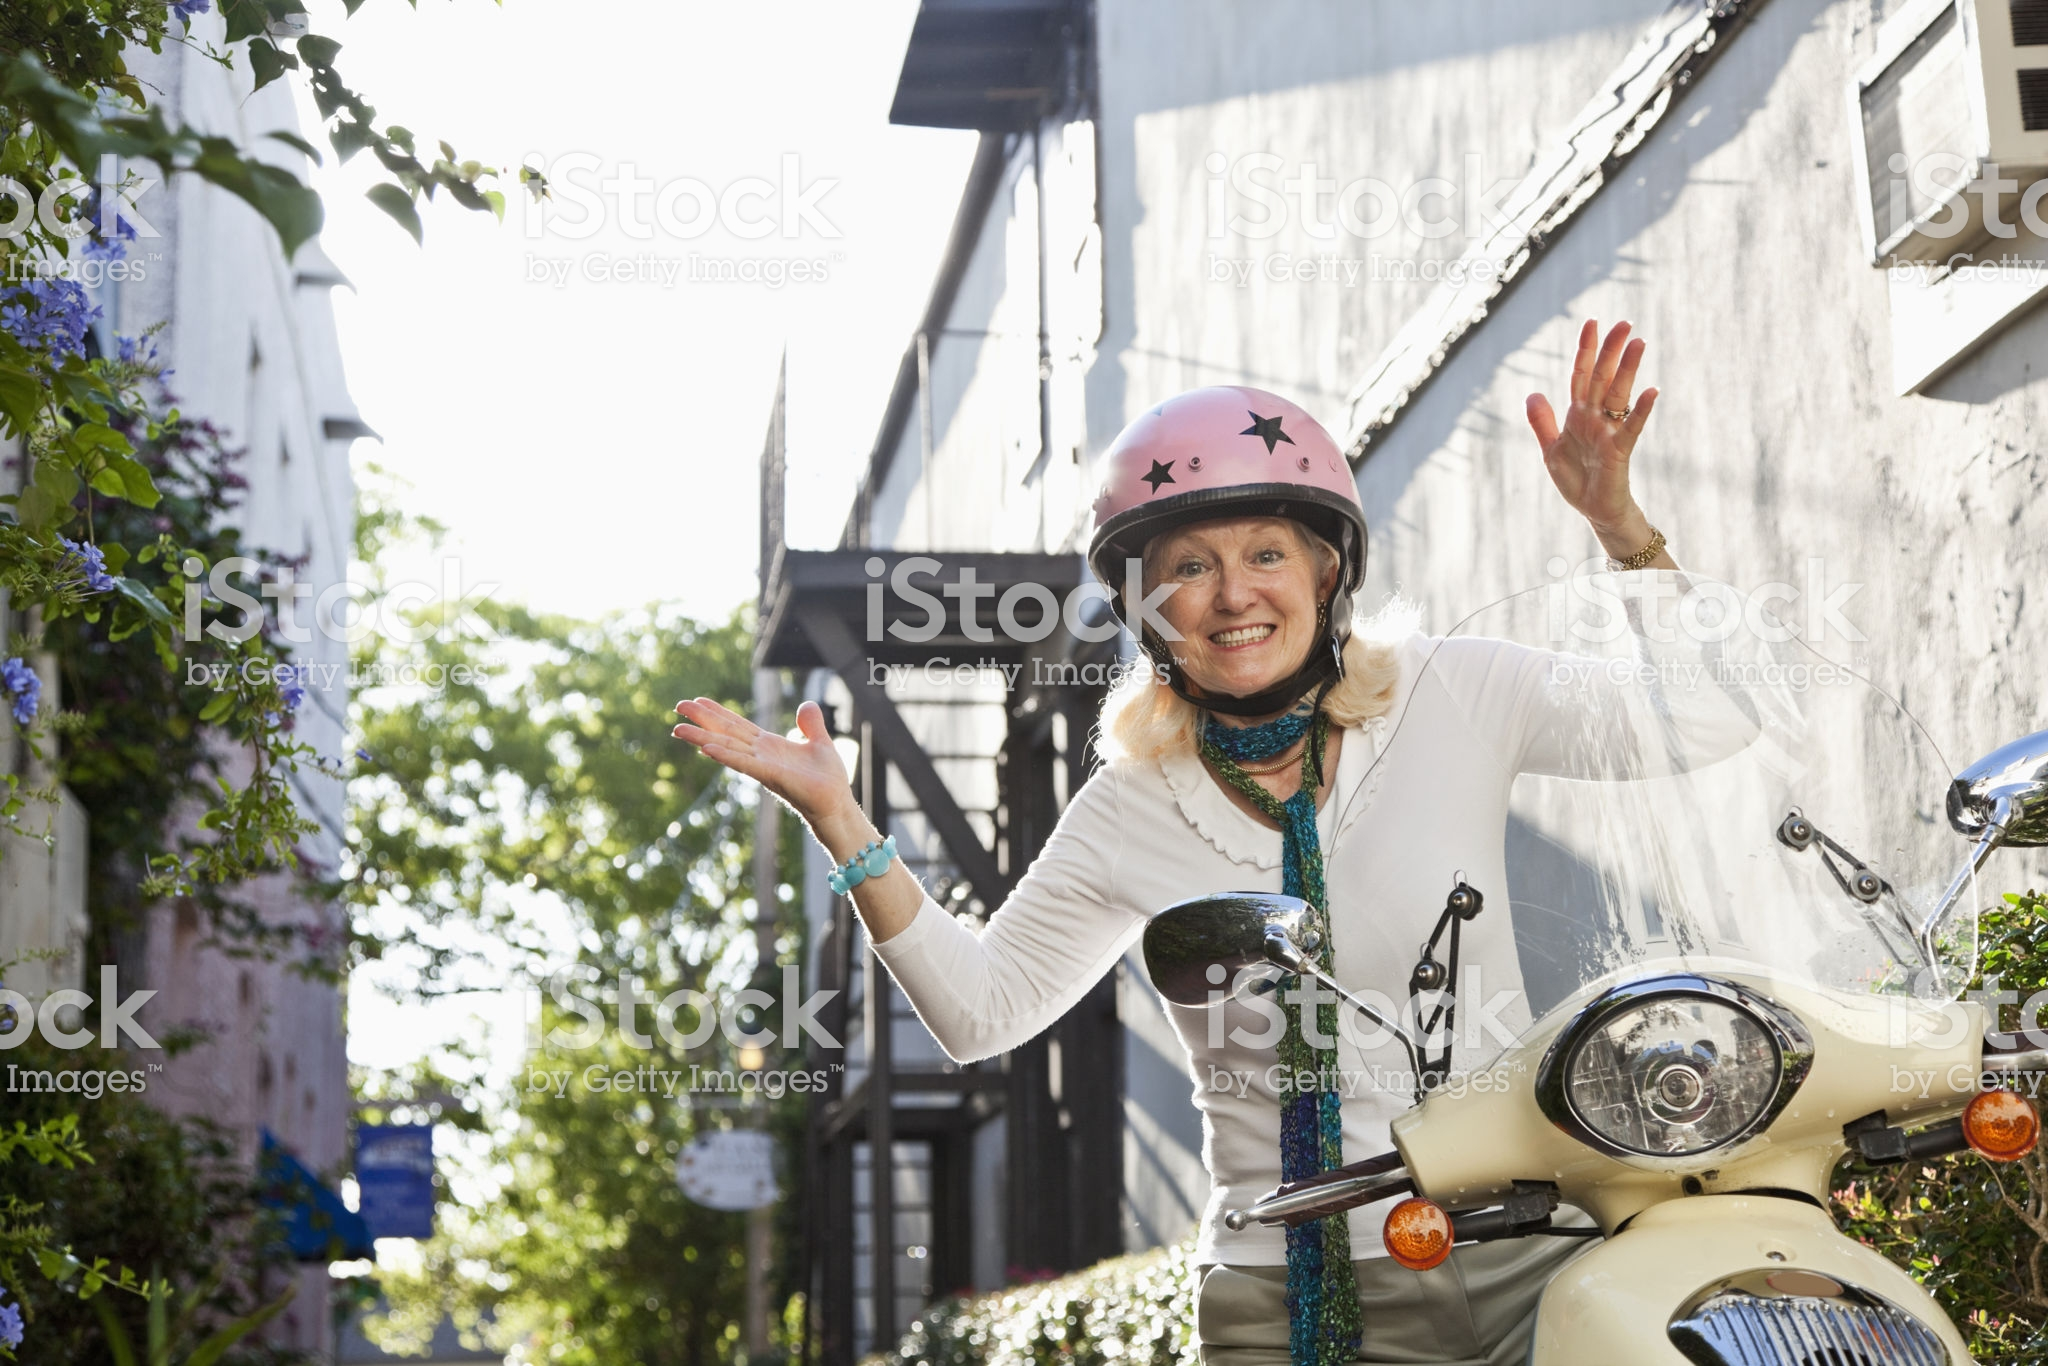helmet: (1056, 386, 1379, 543)
